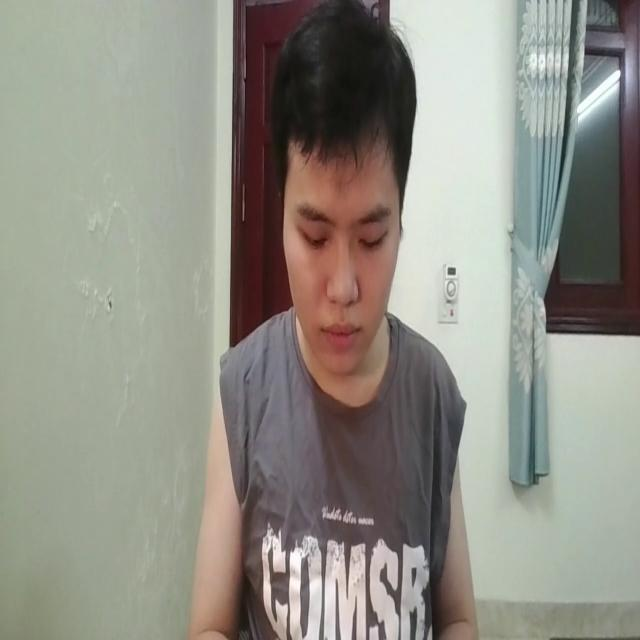student: (201, 0, 468, 640)
